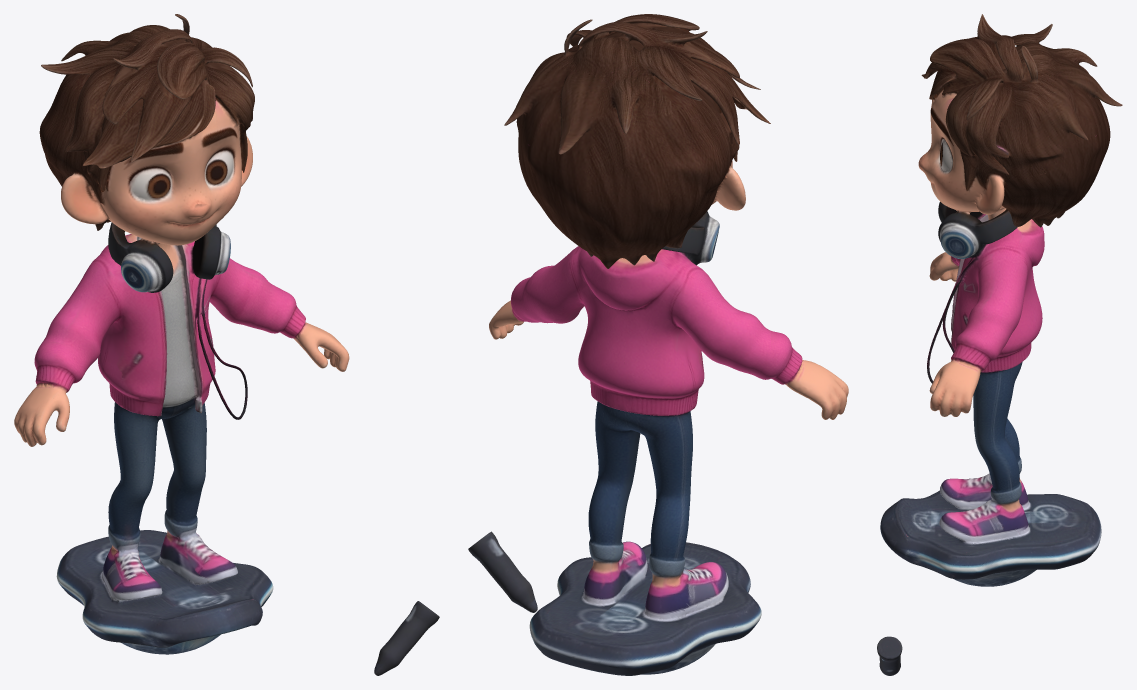
The model's file is player_game.glb.
3 renders of one model, left to right at view 1: azimuth 30°, elevation 25°; view 2: azimuth 150°, elevation 25°; view 3: azimuth 270°, elevation 25°, orthographic. The views are drawn at different scales.
Visible parts, largest first — view 1: mesh_node; view 2: mesh_node; view 3: mesh_node.
Part boxes in pixels (box(x1,y1,x2,y2)): mesh_node: box(14, 14, 439, 675); mesh_node: box(468, 14, 848, 675); mesh_node: box(877, 14, 1122, 675).
Size of the model in its own units: 1.16 by 1.85 by 0.722.
1 material, 1 textured.
